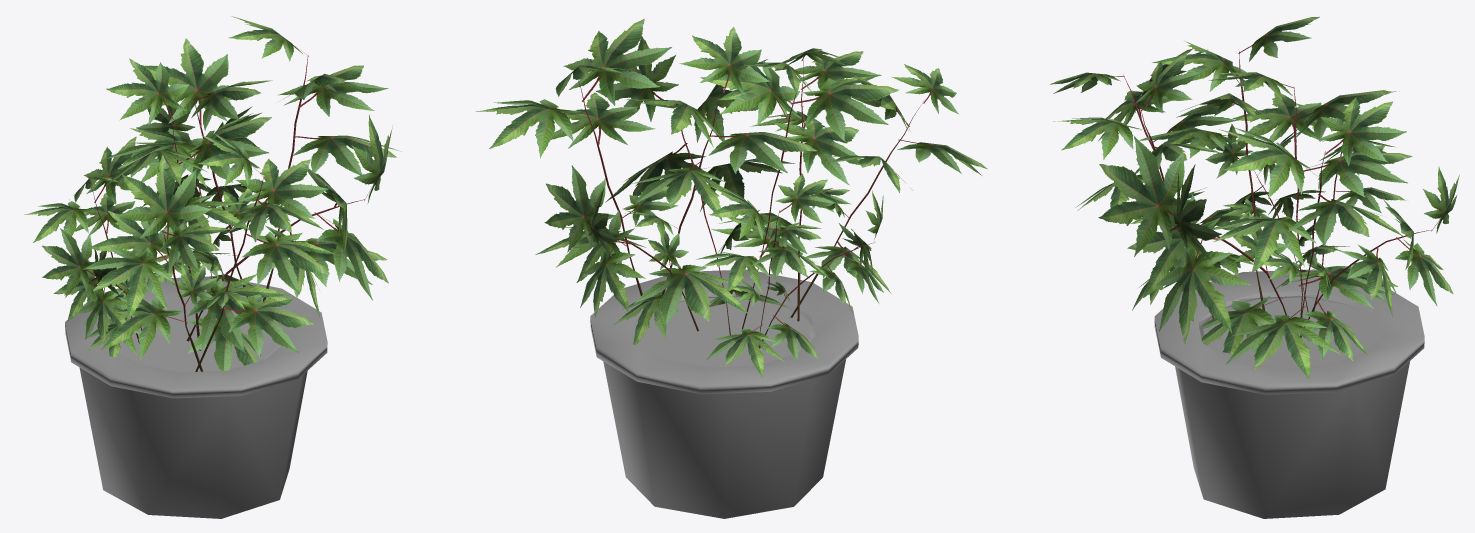
The model's file is Fern_lod1.fbx.
3 renders of one model, left to right at view 1: azimuth 30°, elevation 25°; view 2: azimuth 150°, elevation 25°; view 3: azimuth 270°, elevation 25°, orthographic. The views are drawn at different scales.
Visible parts, largest first — view 1: Fern_lod1; view 2: Fern_lod1; view 3: Fern_lod1.
Part boxes in pixels (x1=…): Fern_lod1: x1=24, y1=16, x2=400, y2=518; Fern_lod1: x1=475, y1=19, x2=987, y2=518; Fern_lod1: x1=1050, y1=16, x2=1459, y2=518.
Size of the model in its own units: 61.5 by 59.21 by 51.58.
2 materials, 1 textured.
